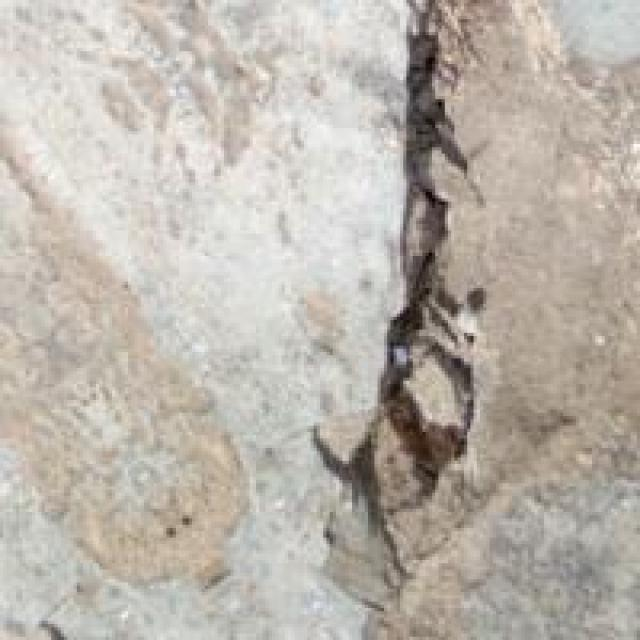Crack: (288, 3, 506, 592)
